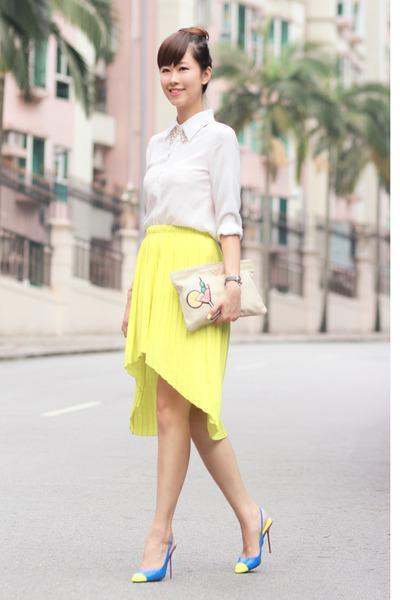bag: (170, 254, 265, 323)
shirt: (141, 110, 241, 234)
shoe: (133, 540, 263, 582)
skirt: (122, 223, 236, 453)
